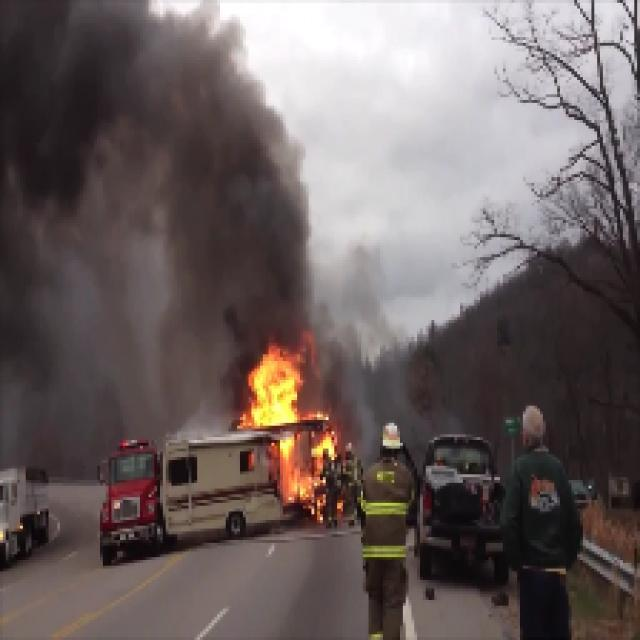Fire: (247, 346, 304, 422)
Smoke: (20, 17, 252, 189), (192, 206, 308, 330)
